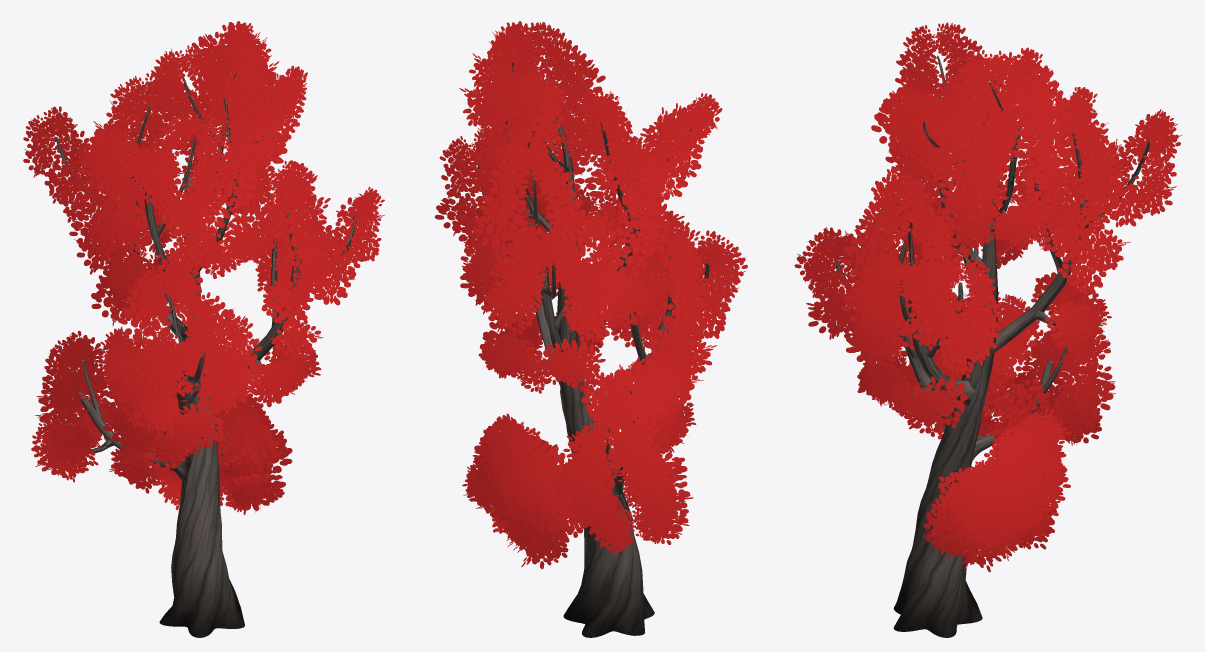
File: TwistedTree_4.glb
3 views of the same model, side by side, from view 1: azimuth 30°, elevation 25°; view 2: azimuth 150°, elevation 25°; view 3: azimuth 270°, elevation 25° (orthographic). The views are drawn at different scales.
Parts seen in each view (by area): view 1: TwistedTree_4; view 2: TwistedTree_4; view 3: TwistedTree_4.
Boxes of the visible parts, left/top/right/bottom form: TwistedTree_4: left=23, top=21, right=384, bottom=637; TwistedTree_4: left=435, top=21, right=747, bottom=637; TwistedTree_4: left=794, top=22, right=1181, bottom=637.
Size of the model in its own units: 10.38 by 18.74 by 11.29.
2 materials, 2 textured.
